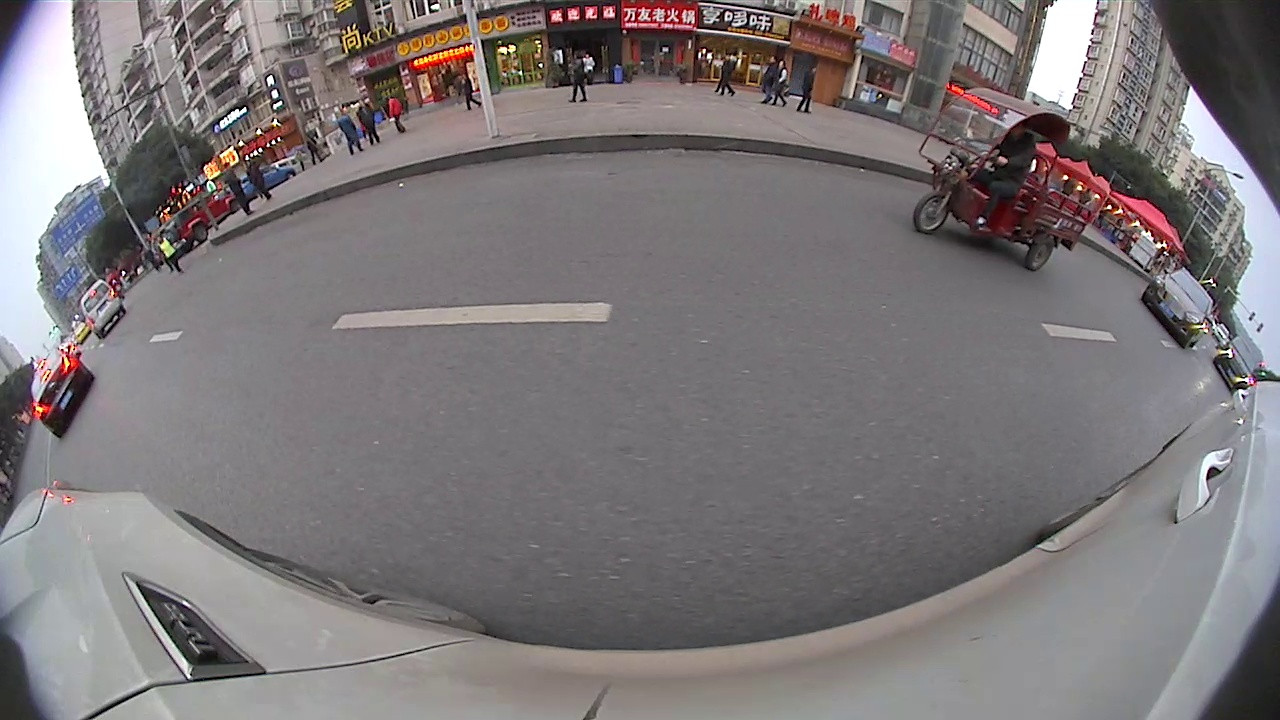car: (19, 345, 97, 440), (1139, 265, 1216, 352), (1211, 331, 1264, 391), (77, 278, 127, 340)
front: (909, 189, 954, 236)
rear: (1021, 230, 1057, 273)
rider: (909, 88, 1113, 272)
